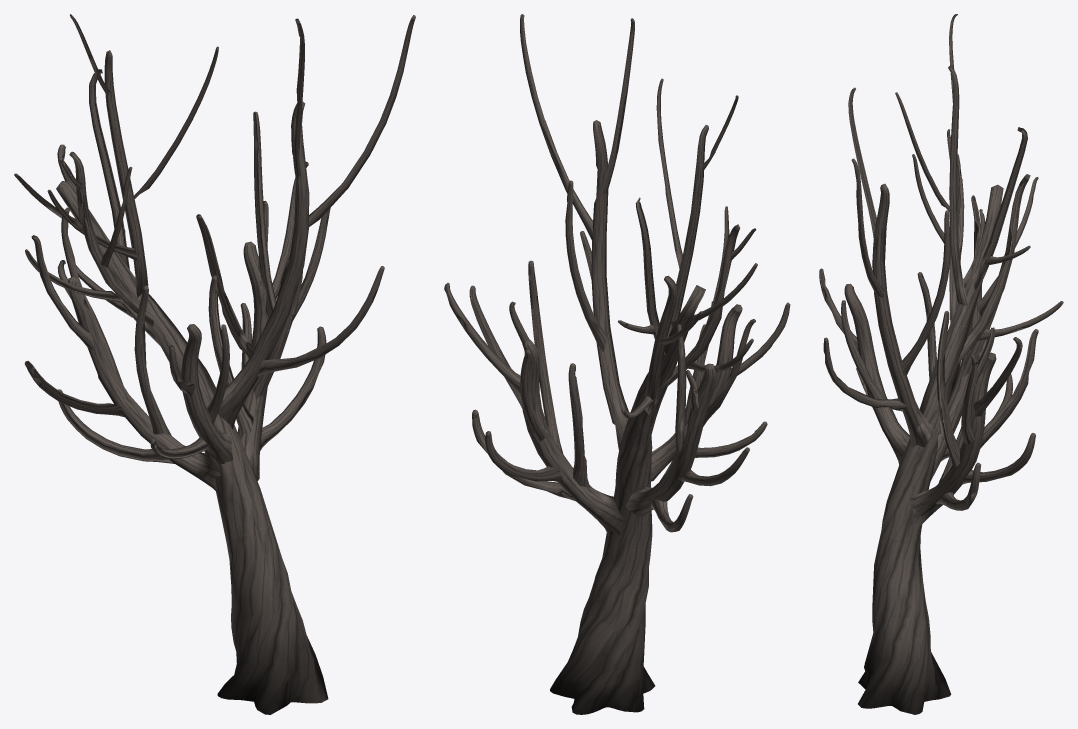
Rendered from twist2.glb.
The picture shows the model from 3 angles, left to right: view 1: azimuth 30°, elevation 25°; view 2: azimuth 150°, elevation 25°; view 3: azimuth 270°, elevation 25°; orthographic projection. The views are drawn at different scales.
Parts seen in each view (by area): view 1: TwistedTree_2; view 2: TwistedTree_2; view 3: TwistedTree_2.
Boxes of the visible parts, x1,y1,x2,y2 form: TwistedTree_2: (14, 14, 415, 714); TwistedTree_2: (444, 14, 790, 714); TwistedTree_2: (819, 14, 1063, 714).
Bounding box in the file's own units: 8.51 × 17.76 × 6.49.
1 material, 1 textured.
